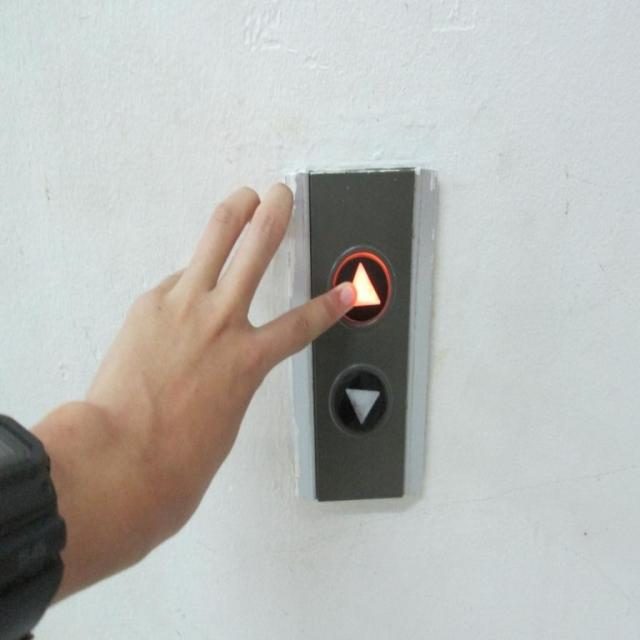down: (328, 359, 391, 441)
up: (328, 241, 396, 330)
